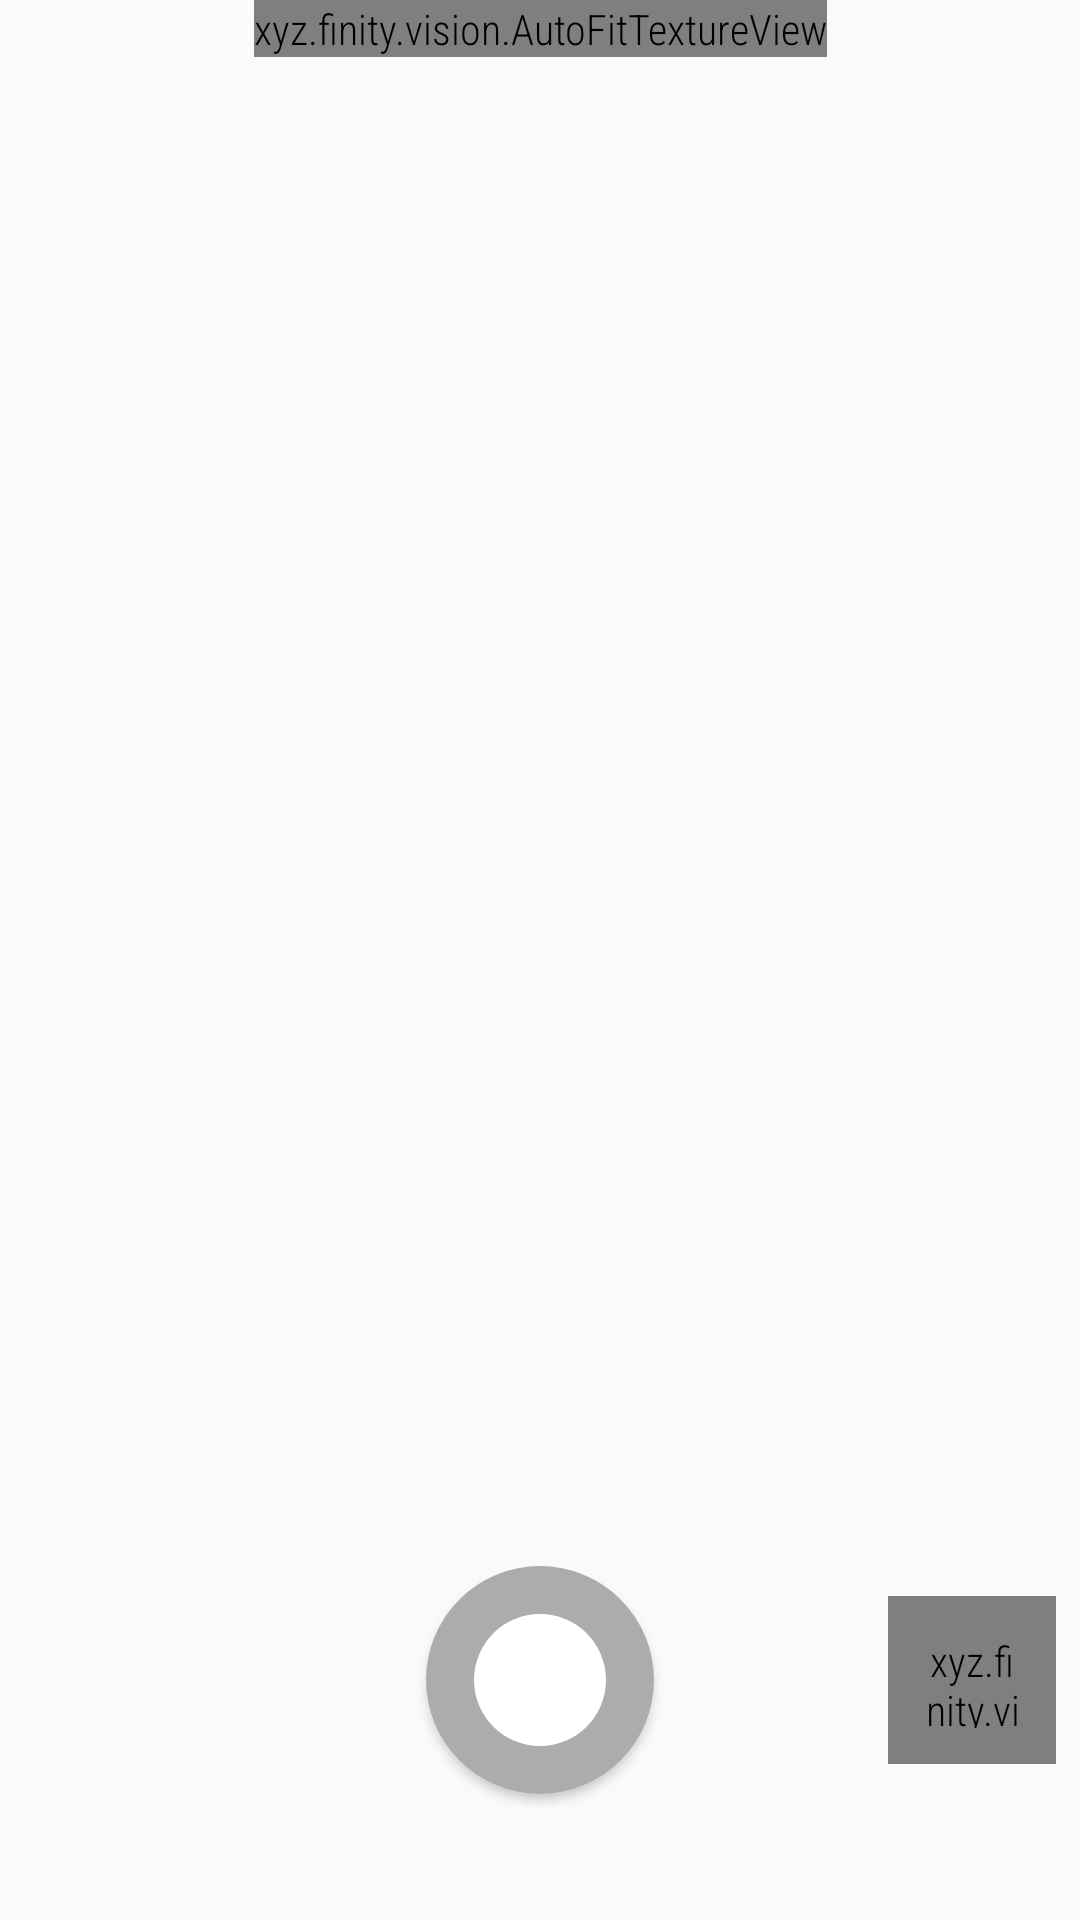

Icon click points for this 1080×1920 phone screenshot, format (x,y):
camera shooter: (540,1680)
